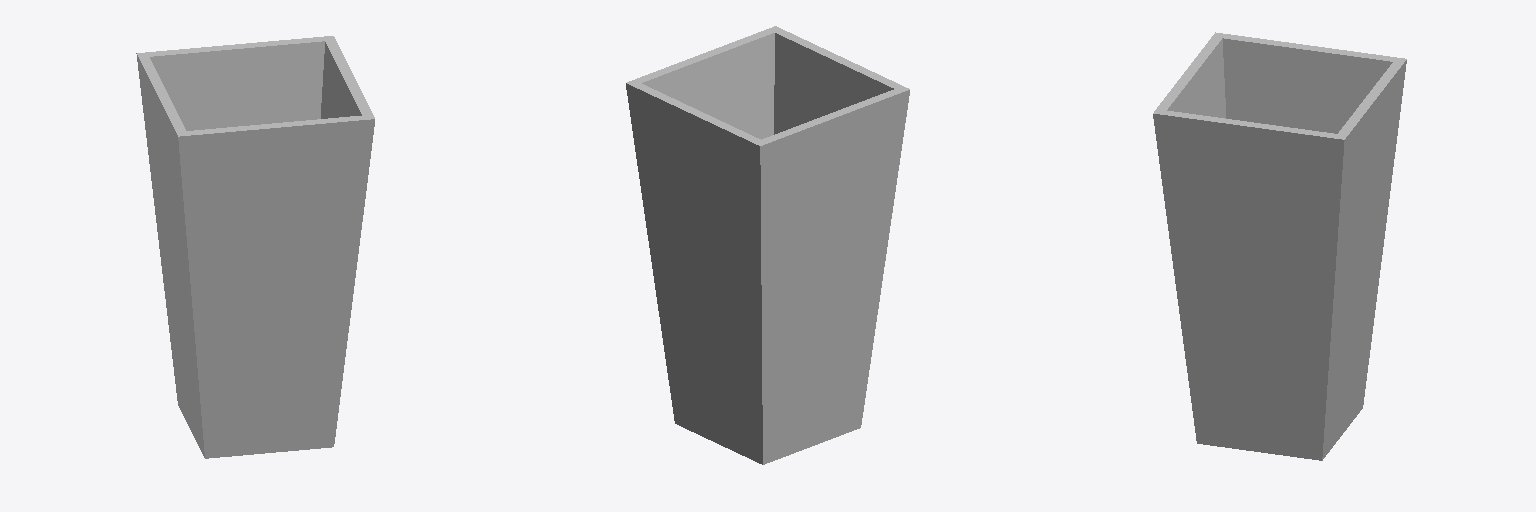
Rendered from Cup.obj.
3 views of the same model, side by side, from view 1: azimuth 30°, elevation 25°; view 2: azimuth 150°, elevation 25°; view 3: azimuth 270°, elevation 25° (orthographic).
Visible parts, largest first — view 1: Plane.010_Plane.140; view 2: Plane.010_Plane.140; view 3: Plane.010_Plane.140.
Part boxes in pixels (x1,y1,x2,y2): Plane.010_Plane.140: (136, 36, 374, 458); Plane.010_Plane.140: (626, 26, 909, 464); Plane.010_Plane.140: (1153, 32, 1406, 460).
Bounding box in the file's own units: 0.2168 × 0.3195 × 0.2168.